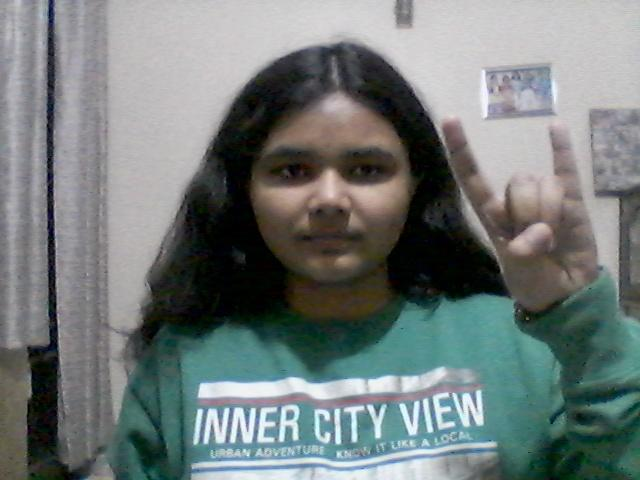ilove you: (430, 94, 612, 320)
